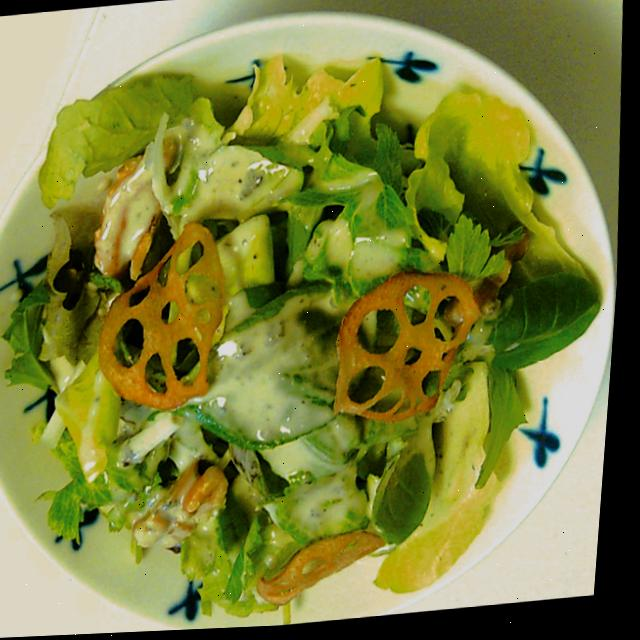蔬菜料理: (0, 5, 632, 640)
